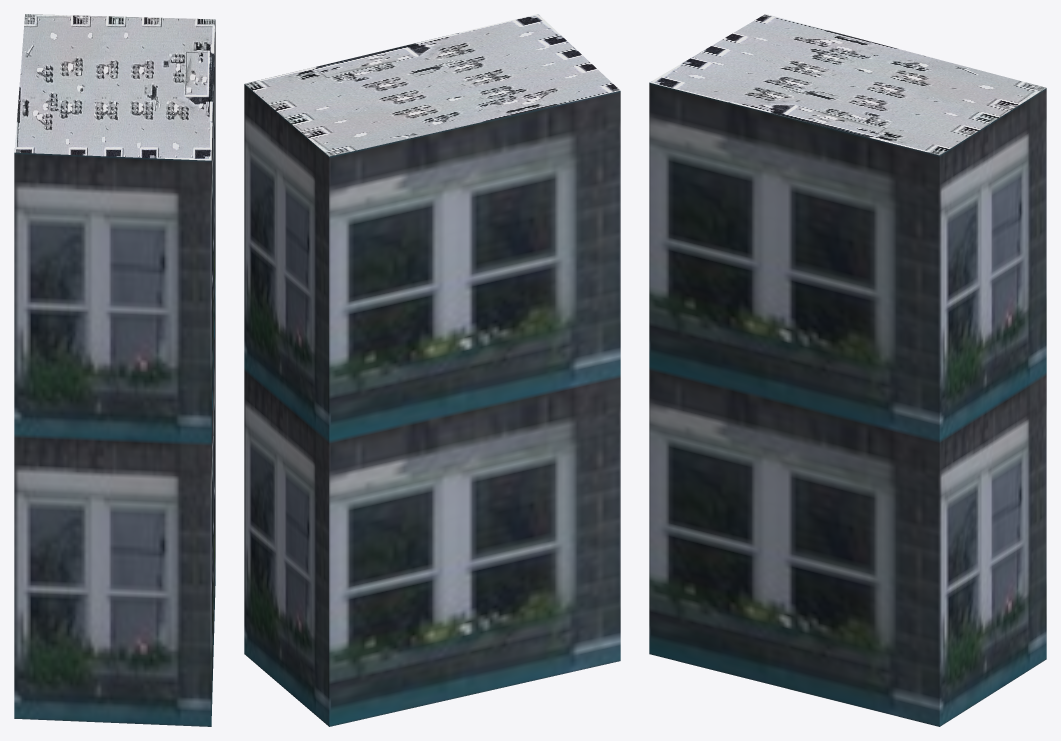
File: ResTex__1936.fbx
3 renders of one model, left to right at view 1: azimuth 30°, elevation 25°; view 2: azimuth 150°, elevation 25°; view 3: azimuth 270°, elevation 25°, orthographic.
Parts seen in each view (by area): view 1: CityEngineMaterial_11_m, CityEngineMaterial_m; view 2: CityEngineMaterial_11_m, CityEngineMaterial_m; view 3: CityEngineMaterial_11_m, CityEngineMaterial_m.
Part boxes in pixels (x1=…): CityEngineMaterial_11_m: x1=14, y1=20, x2=215, y2=726; CityEngineMaterial_m: x1=14, y1=14, x2=215, y2=160; CityEngineMaterial_11_m: x1=244, y1=84, x2=620, y2=726; CityEngineMaterial_m: x1=244, y1=14, x2=620, y2=156; CityEngineMaterial_11_m: x1=649, y1=82, x2=1046, y2=726; CityEngineMaterial_m: x1=649, y1=14, x2=1046, y2=155.
Size of the model in its own units: 3.19 by 6 by 3.78.
2 materials, 2 textured.
